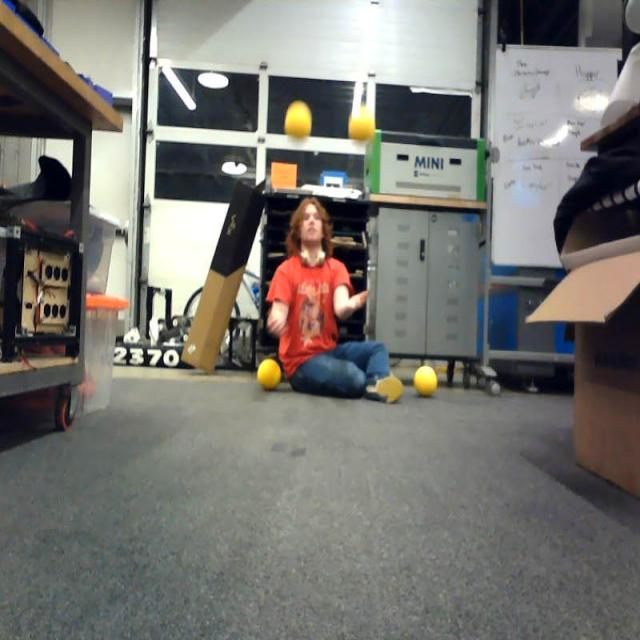Fuel: (286, 106, 312, 139), (349, 107, 374, 141), (414, 365, 437, 397), (258, 358, 281, 389)
